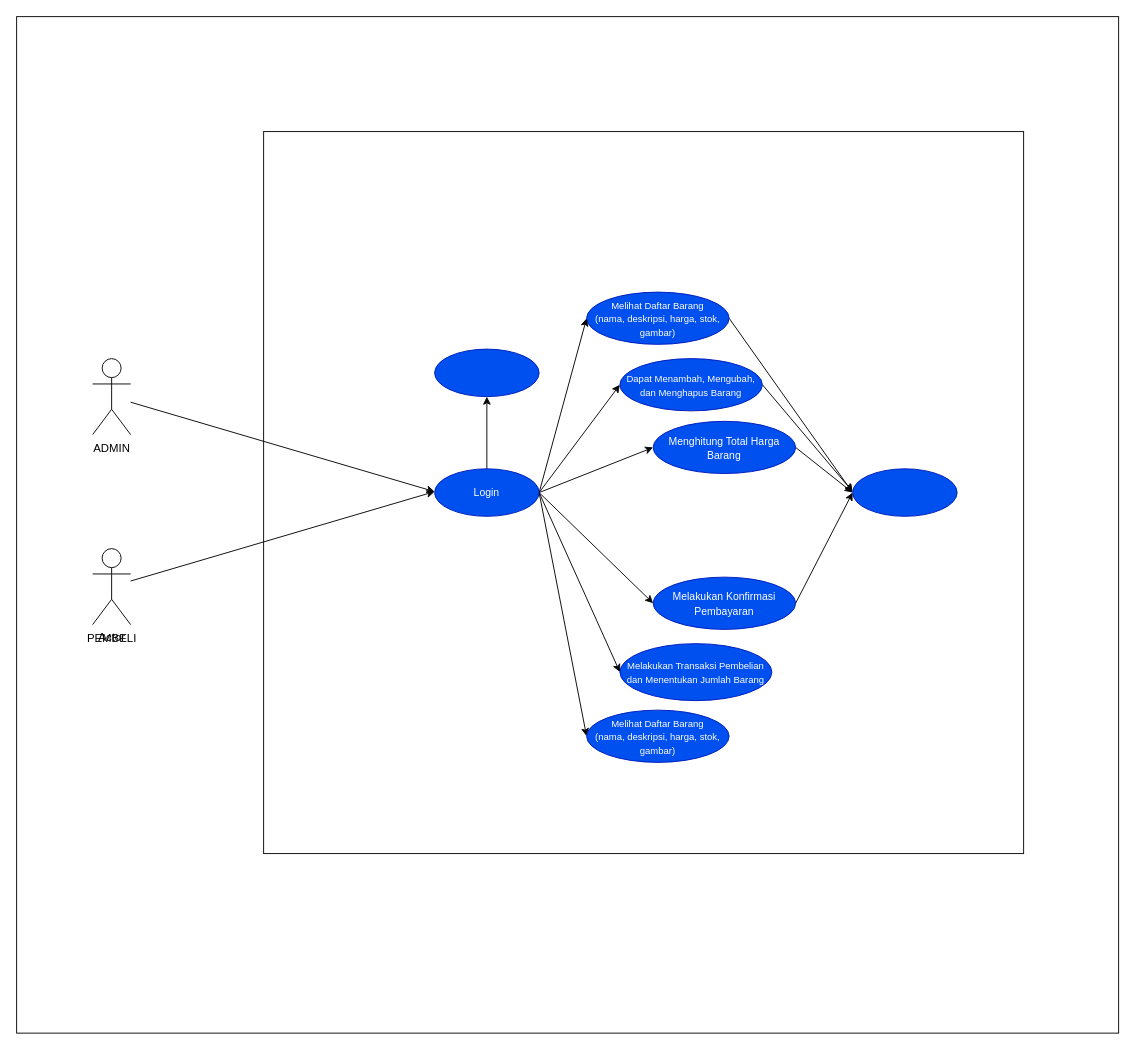
Image size: 1135x1050. Some labels were removed from this diagram. Here are the shapes that lost their labels. From the top down, the centre of each, then its label:
At (x=486, y=372): "Mendaftar Akun".
At (x=904, y=492): "Log Out".
